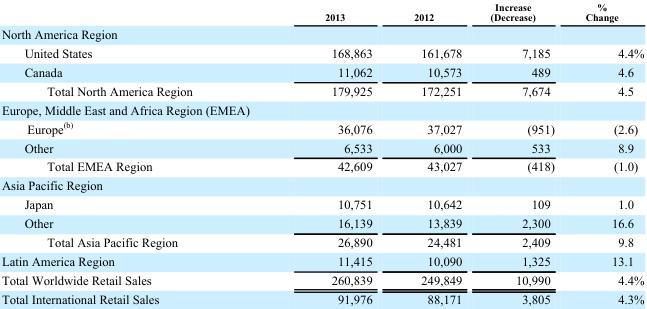table: (0, 0, 643, 305)
table column: (0, 0, 258, 305), (258, 0, 392, 305), (475, 0, 569, 305), (392, 0, 475, 305), (569, 0, 643, 305)
table column header: (0, 0, 643, 24)
table projected row header: (0, 24, 643, 43), (0, 175, 643, 194), (0, 99, 643, 117)
table row: (0, 0, 643, 24), (0, 117, 643, 137), (0, 24, 643, 43), (0, 43, 643, 62), (0, 80, 643, 99), (0, 137, 643, 156), (0, 156, 643, 175), (0, 175, 643, 194), (0, 194, 643, 213), (0, 213, 643, 232), (0, 232, 643, 251), (0, 251, 643, 270), (0, 270, 643, 289), (0, 62, 643, 80), (0, 99, 643, 117), (0, 289, 643, 305)
